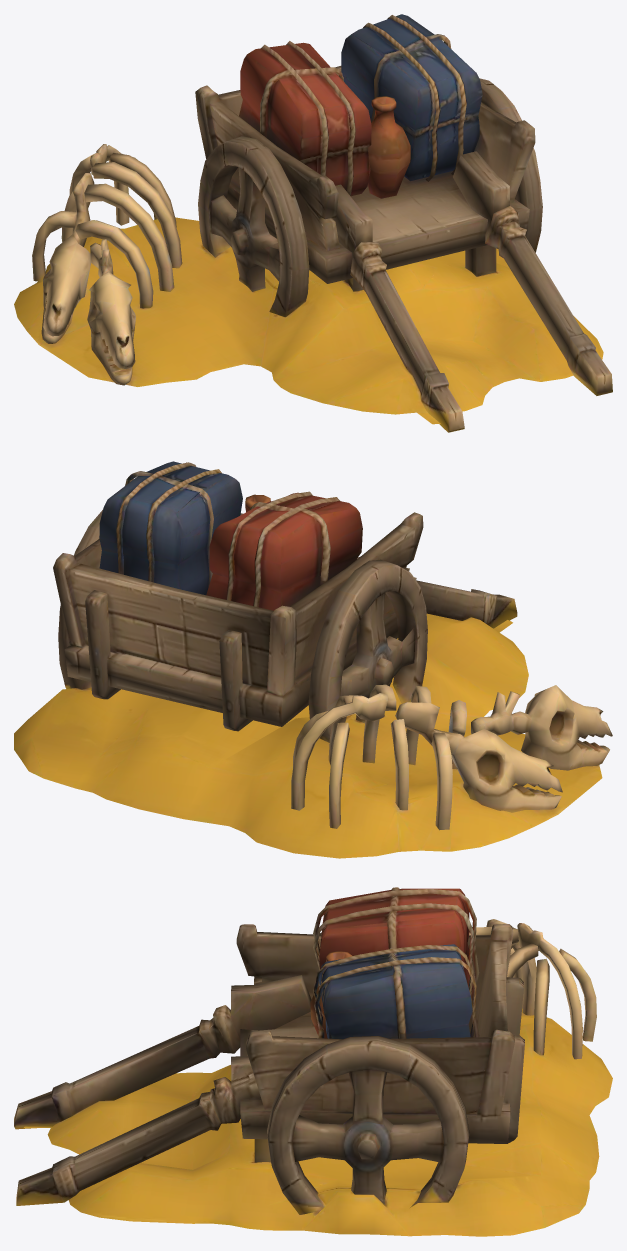
Rendered from SM_Tripo_DesertCaravanWreck.glb.
The picture shows the model from 3 angles, top to bottom: view 1: azimuth 30°, elevation 25°; view 2: azimuth 150°, elevation 25°; view 3: azimuth 270°, elevation 25°; orthographic projection. The views are drawn at different scales.
Parts seen in each view (by area): view 1: SM_Tripo_DesertCaravanWreck_LOD0; view 2: SM_Tripo_DesertCaravanWreck_LOD0; view 3: SM_Tripo_DesertCaravanWreck_LOD0.
Boxes of the visible parts, left/top/right/bottom form: SM_Tripo_DesertCaravanWreck_LOD0: left=14, top=14, right=612, bottom=432; SM_Tripo_DesertCaravanWreck_LOD0: left=14, top=461, right=612, bottom=858; SM_Tripo_DesertCaravanWreck_LOD0: left=14, top=887, right=612, bottom=1236.
Bounding box in the file's own units: 3.79 × 1.82 × 4.03.
Materials: 1 (1 with a texture image).
